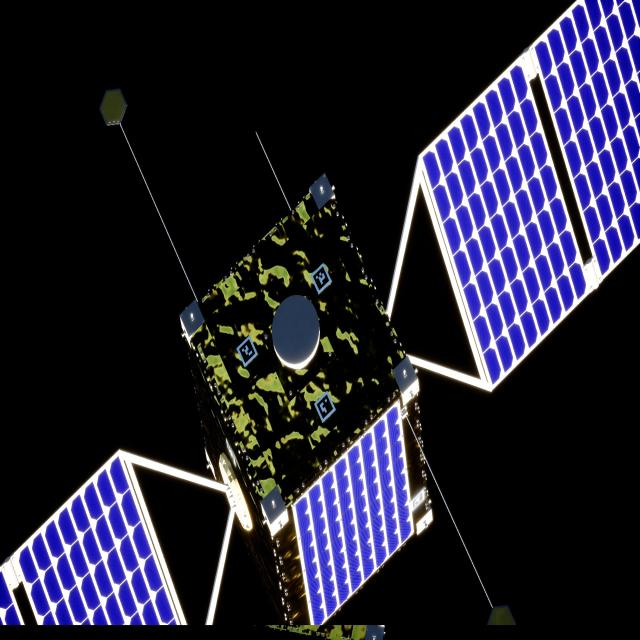satellite: (0, 0, 640, 631)
